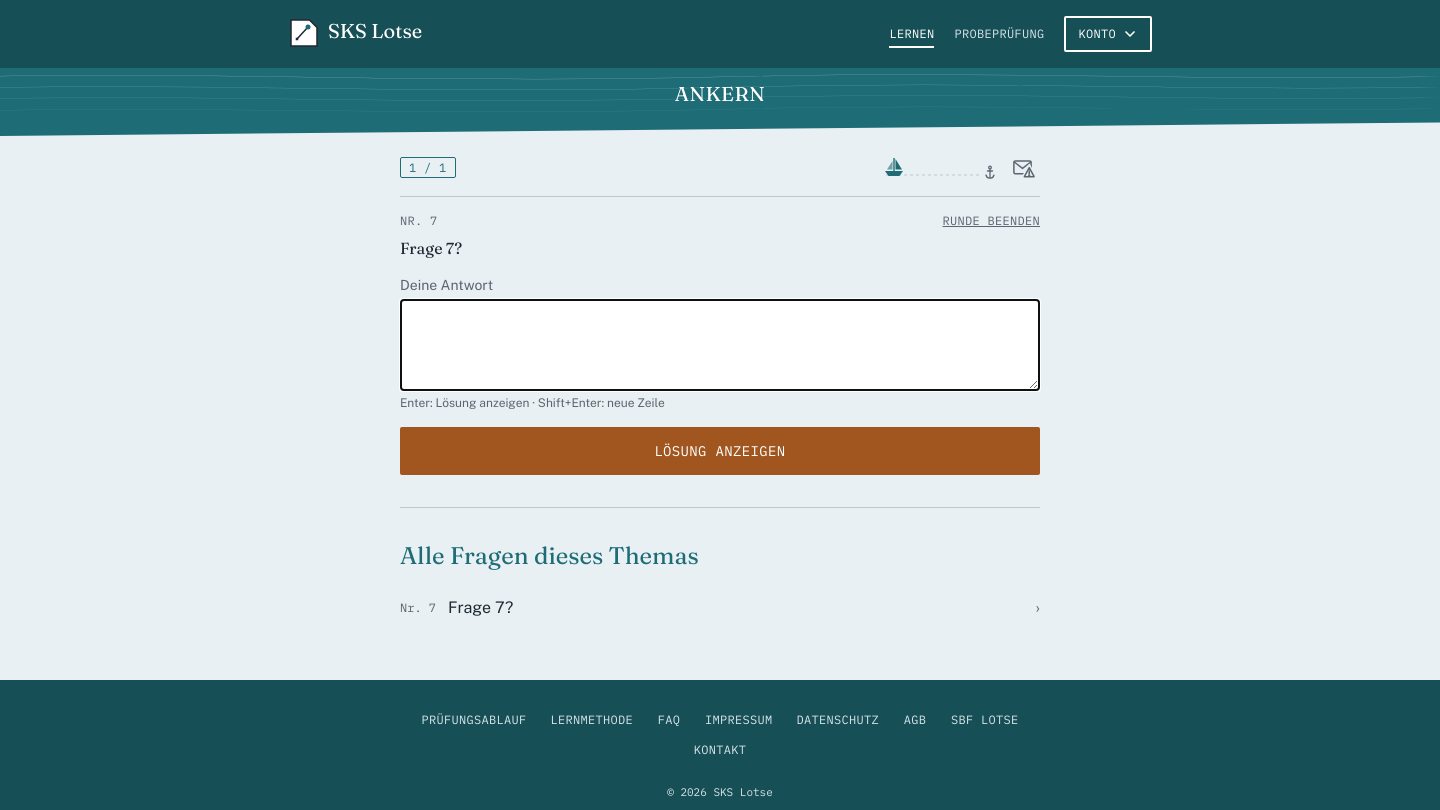
PracticePage › keeps the assessment open when saving fails
Click the button "Lösung anzeigen".
click(720, 451)  # box x1=400 y1=427 x2=1040 y2=475
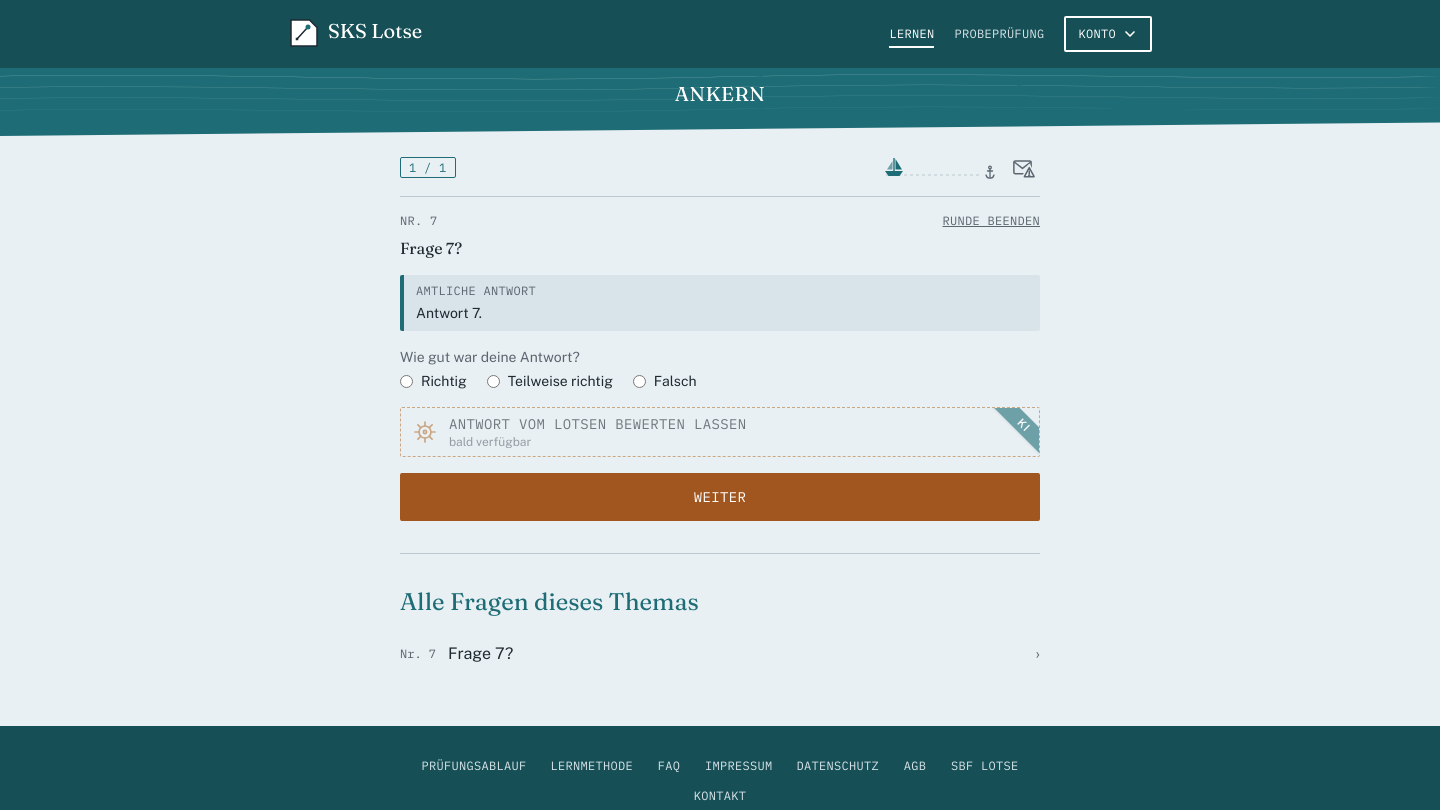
Click the radio button labelled "Falsch".
click(639, 381)  # box x1=633 y1=374 x2=646 y2=388
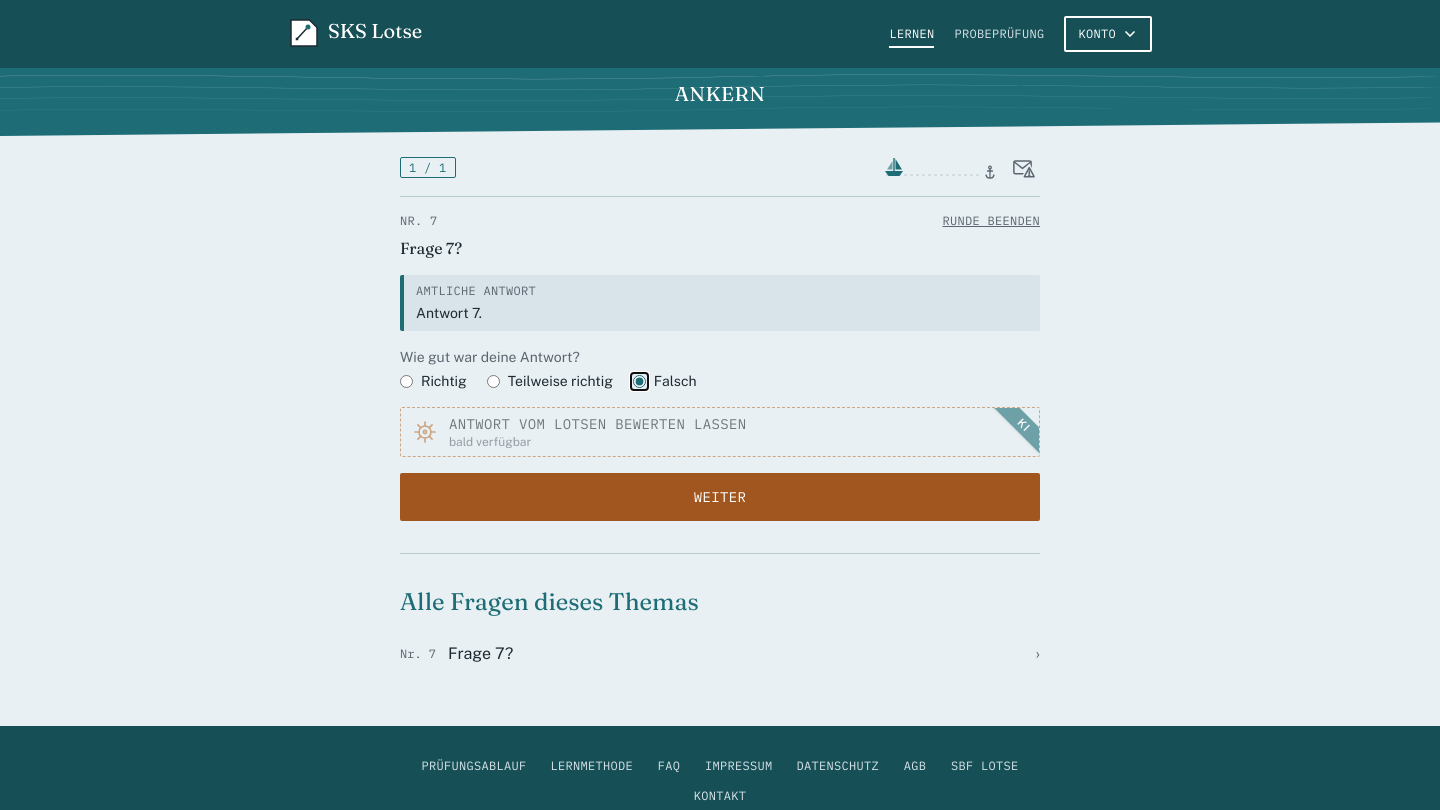
Click the button "Weiter".
click(720, 497)  # box x1=400 y1=473 x2=1040 y2=521
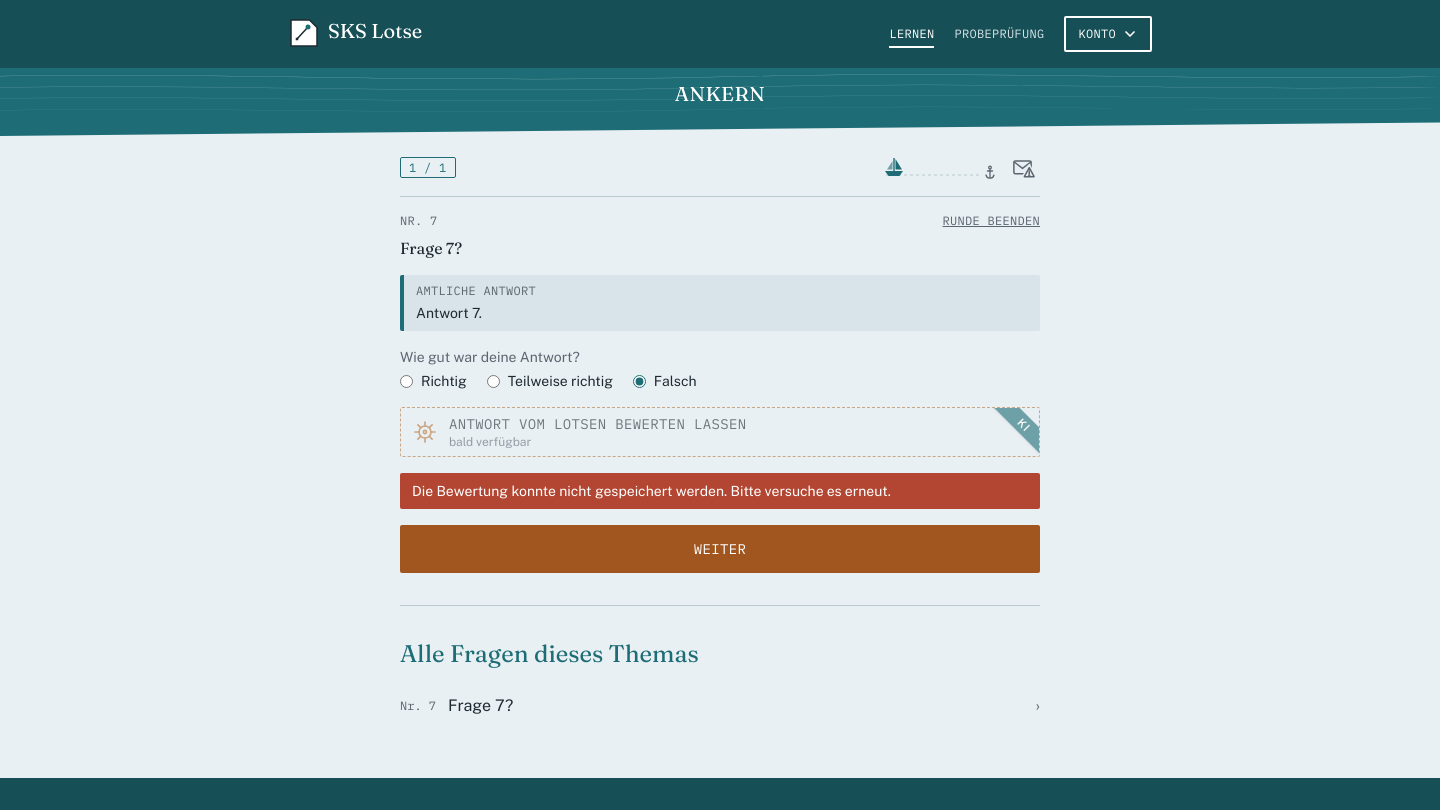
Expected: the button "Weiter" is enabled, x1=400 y1=525 x2=1040 y2=573
Result: the message shows "Die Bewertung konnte nicht gespeichert werden." at x1=412 y1=483 x2=891 y2=499
